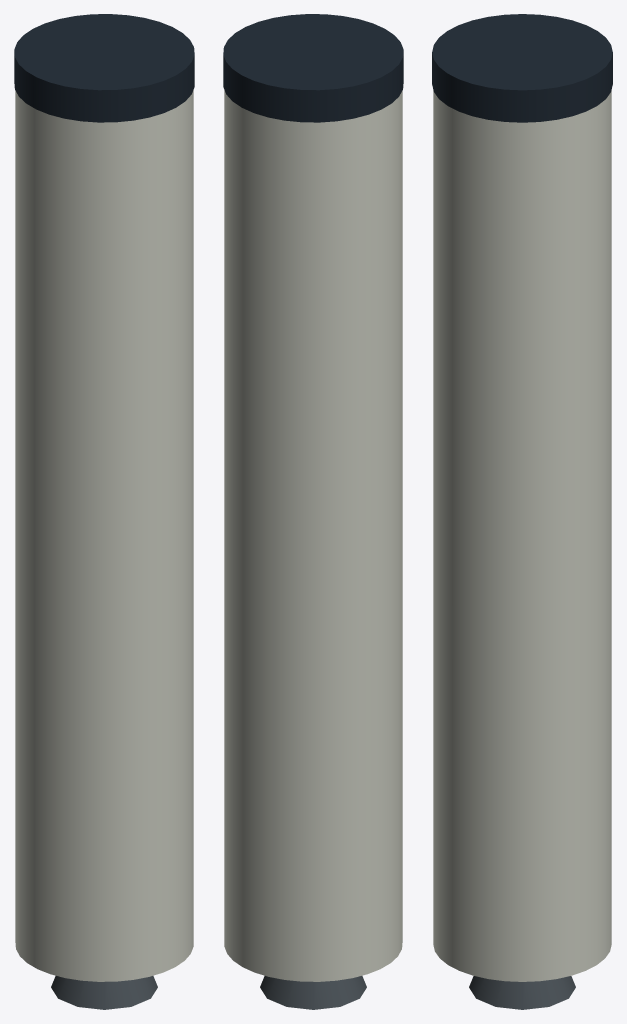
The model's file is soyuz-stage-1.glb.
The picture shows the model from 3 angles, left to right: view 1: azimuth 30°, elevation 25°; view 2: azimuth 150°, elevation 25°; view 3: azimuth 270°, elevation 25°; orthographic projection.
Parts seen in each view (by area): view 1: body-0, interstage-0, engine-0-0; view 2: body-0, interstage-0, engine-0-0; view 3: body-0, interstage-0, engine-0-0.
Part boxes in pixels (x1,y1,x2,y2): body-0: (15,90,193,981); interstage-0: (14,14,194,122); engine-0-0: (51,976,157,1009); body-0: (224,90,402,981); interstage-0: (223,14,403,122); engine-0-0: (260,976,366,1009); body-0: (433,90,611,981); interstage-0: (432,14,612,122); engine-0-0: (469,976,575,1009).
Bounding box in the file's own units: 2.99 × 17.05 × 2.99.
